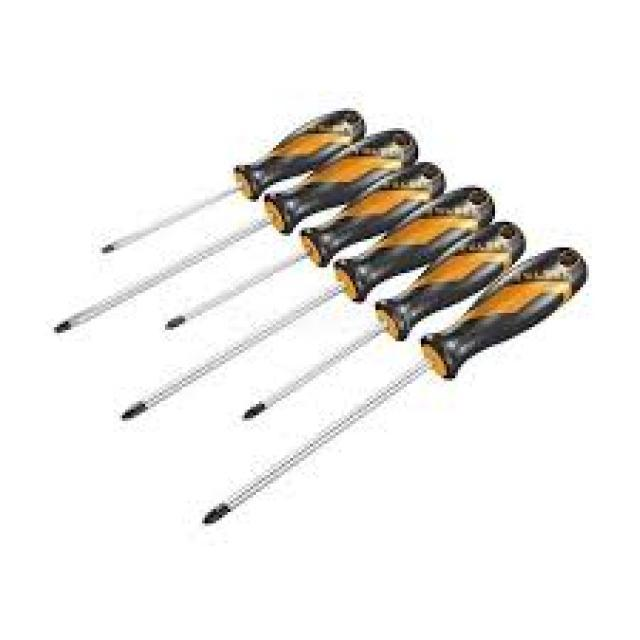screwdriver: (198, 245, 590, 532), (118, 187, 496, 426), (47, 126, 417, 342), (236, 214, 529, 428), (162, 160, 452, 338), (100, 102, 372, 262)
